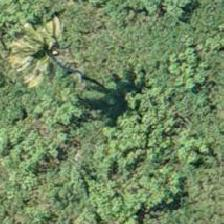coconut_tree: (0, 0, 82, 78)
